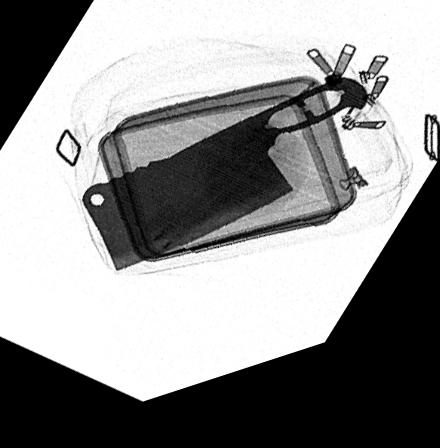Knife: (80, 98, 369, 278)
